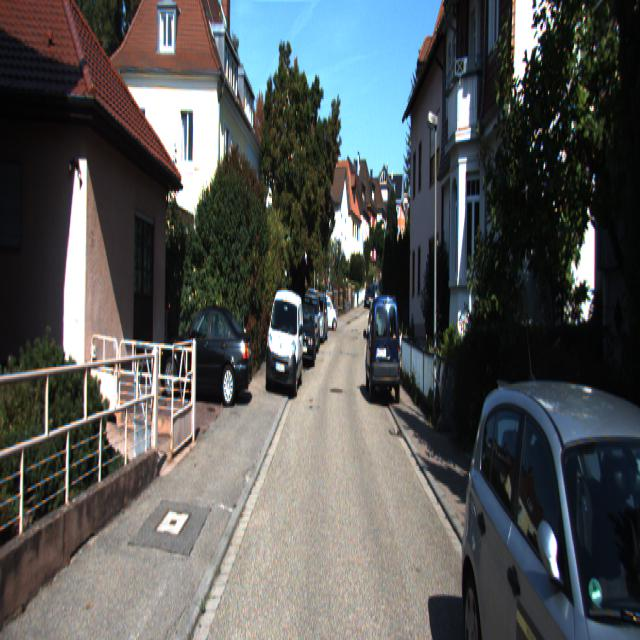Car: (458, 348, 640, 638), (159, 297, 256, 403), (264, 287, 305, 399), (366, 294, 402, 404), (294, 304, 317, 367), (300, 288, 320, 355), (306, 288, 329, 342)
